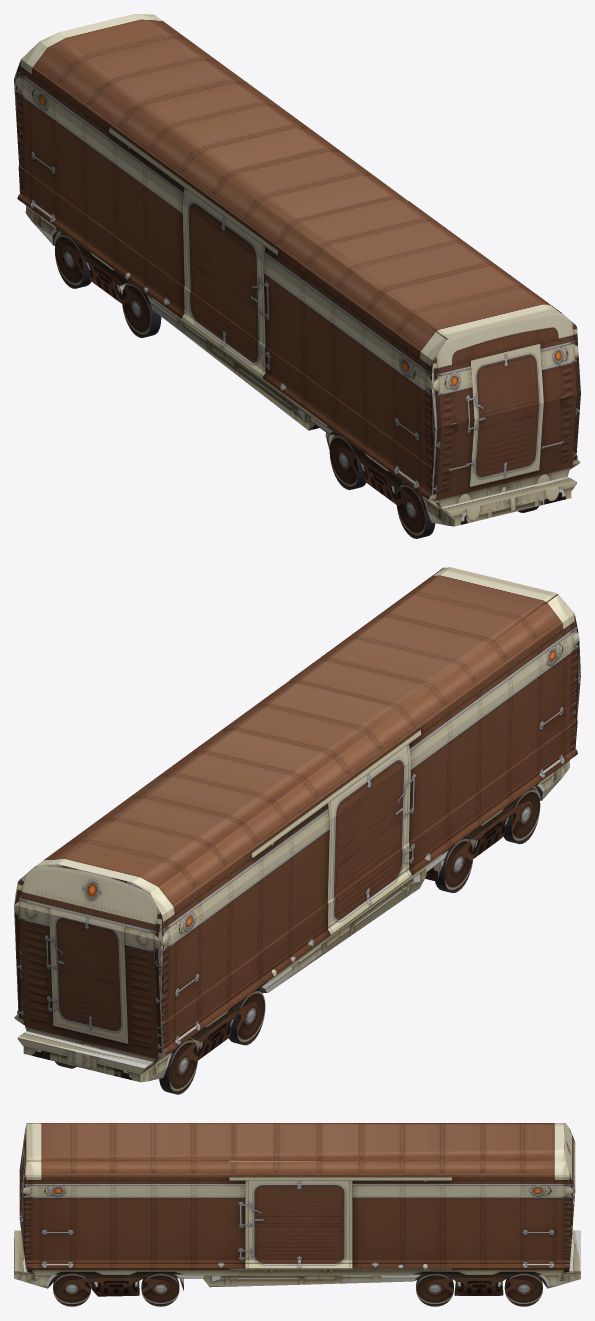
The model's file is boxcar.glb.
3 renders of one model, top to bottom at view 1: azimuth 30°, elevation 25°; view 2: azimuth 150°, elevation 25°; view 3: azimuth 270°, elevation 25°, orthographic. The views are drawn at different scales.
Parts seen in each view (by area): view 1: boxcar, wheel_M1L, wheel_BL, wheel_FL, wheel_M2L; view 2: boxcar, wheel_FL, wheel_M2L, wheel_M1L, wheel_BL; view 3: boxcar, wheel_FR, wheel_M2R, wheel_M1R, wheel_BR.
Part boxes in pixels (x1=…): boxcar: x1=14, y1=14, x2=580, y2=526; wheel_M1L: x1=122, y1=282, x2=161, y2=337; wheel_BL: x1=396, y1=482, x2=435, y2=538; wheel_FL: x1=55, y1=233, x2=91, y2=288; wheel_M2L: x1=329, y1=434, x2=366, y2=489; boxcar: x1=14, y1=567, x2=580, y2=1082; wheel_FL: x1=159, y1=1038, x2=197, y2=1094; wheel_M2L: x1=435, y1=838, x2=473, y2=892; wheel_M1L: x1=229, y1=993, x2=265, y2=1045; wheel_BL: x1=503, y1=788, x2=540, y2=844; boxcar: x1=14, y1=1123, x2=580, y2=1296; wheel_FR: x1=504, y1=1273, x2=542, y2=1306; wheel_M2R: x1=141, y1=1273, x2=179, y2=1306; wheel_M1R: x1=416, y1=1273, x2=453, y2=1306; wheel_BR: x1=53, y1=1273, x2=90, y2=1306.
Bounding box in the file's own units: 3.17 × 4.53 × 15.48.
Materials: 3 (1 with a texture image).
